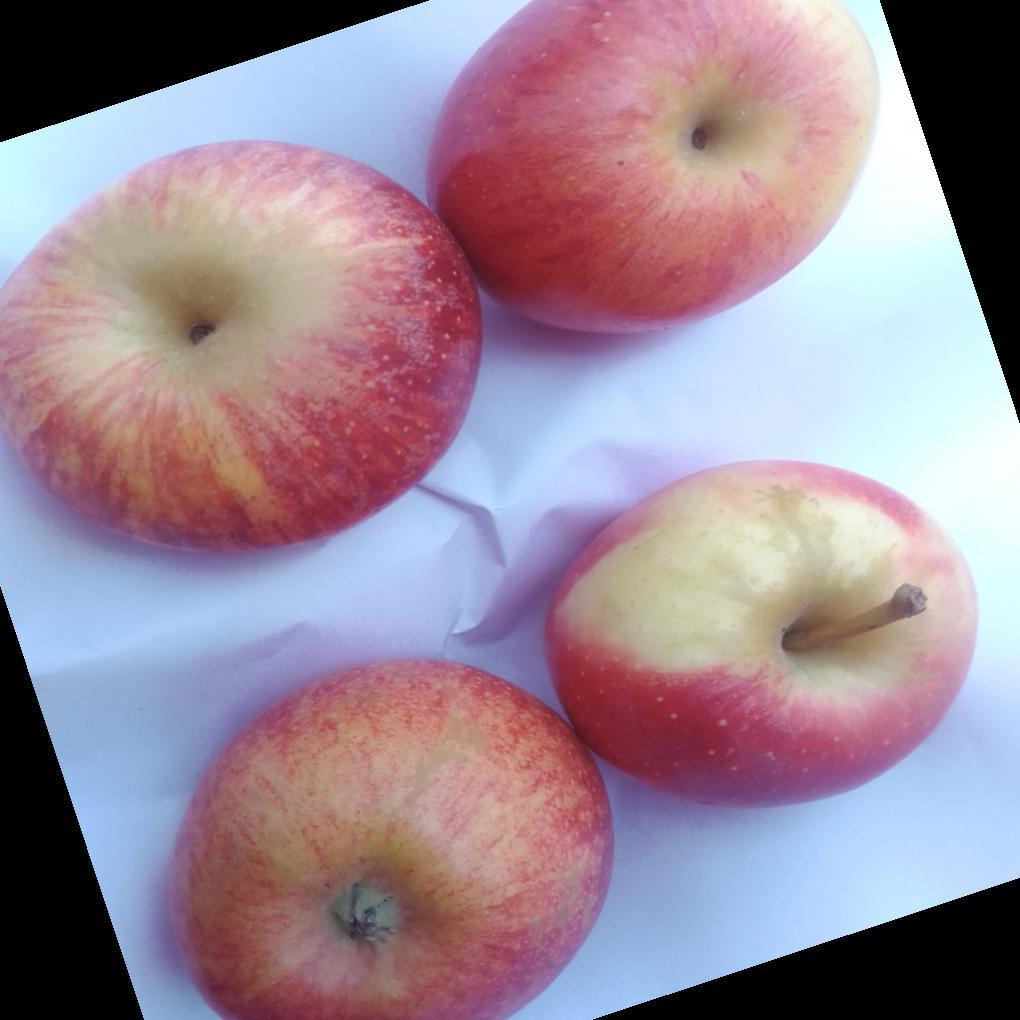FreshGuava: (0, 0, 880, 557), (163, 460, 928, 1020)
